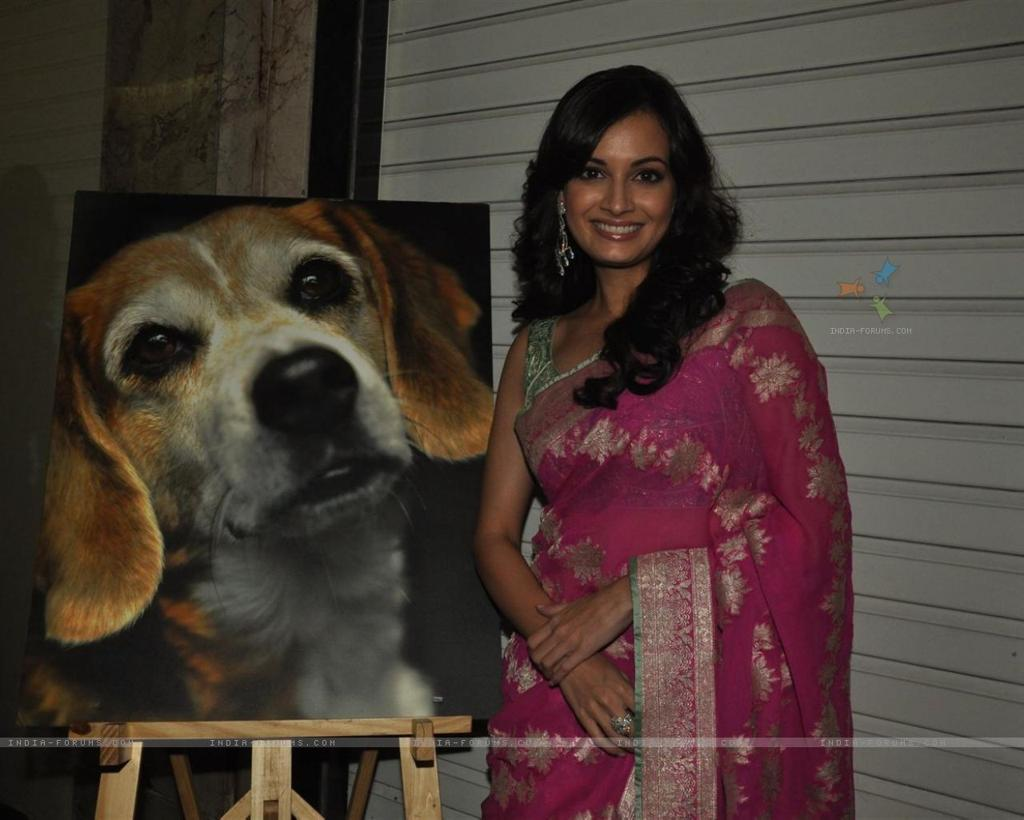face: (566, 106, 676, 260)
